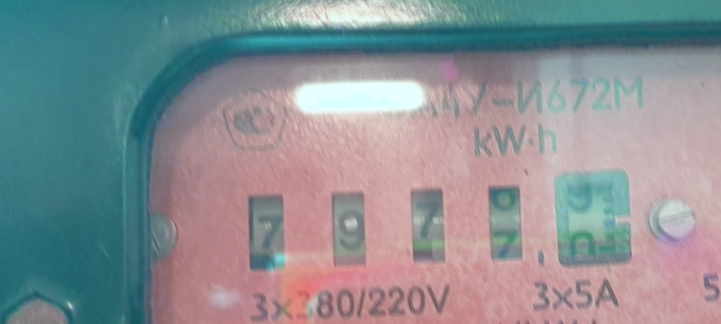0: (562, 223, 597, 264)
7: (250, 210, 283, 254), (408, 197, 441, 241), (486, 225, 519, 262)
9: (329, 205, 366, 252), (560, 176, 593, 214)
screen: (221, 147, 656, 309)
